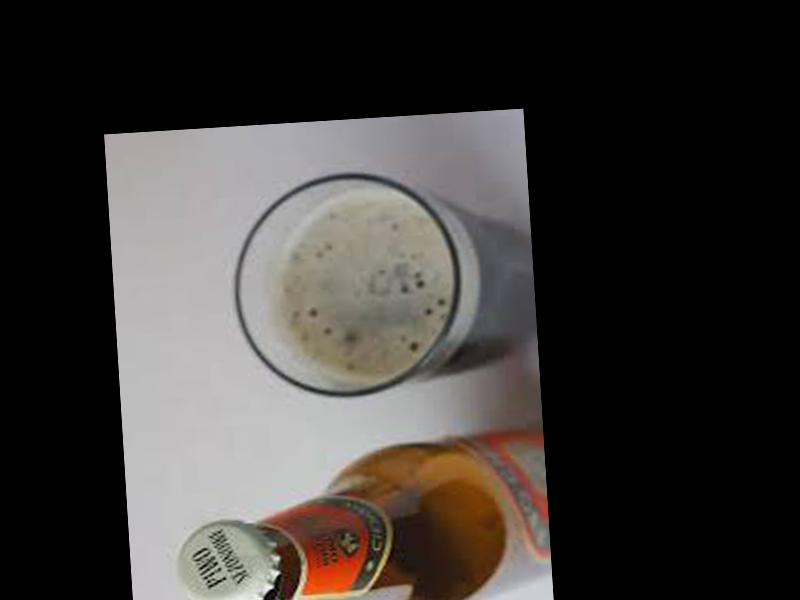Beer: (169, 425, 554, 600)
